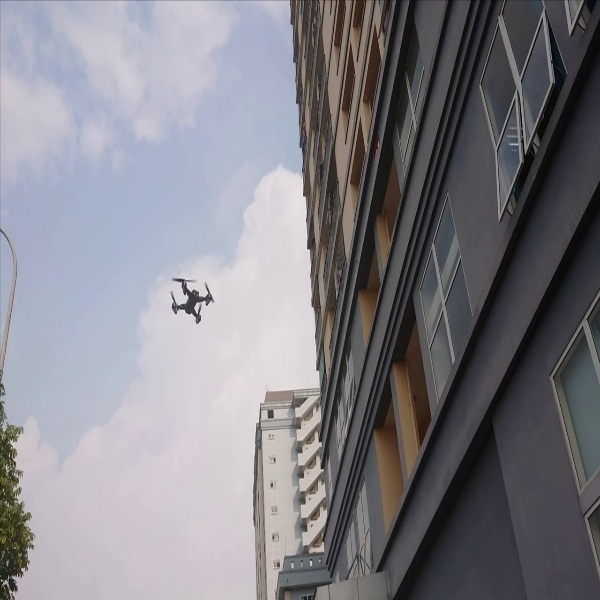drone: (164, 269, 218, 327)
